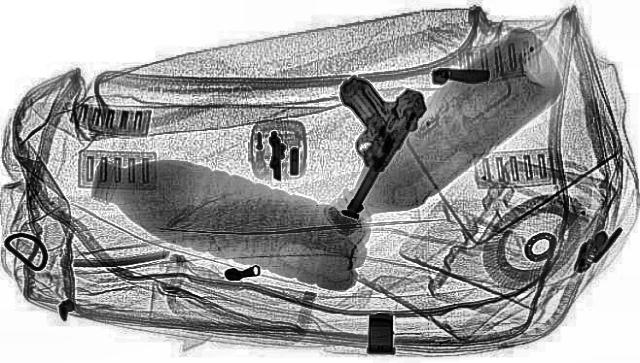Gun: (294, 75, 432, 219)
